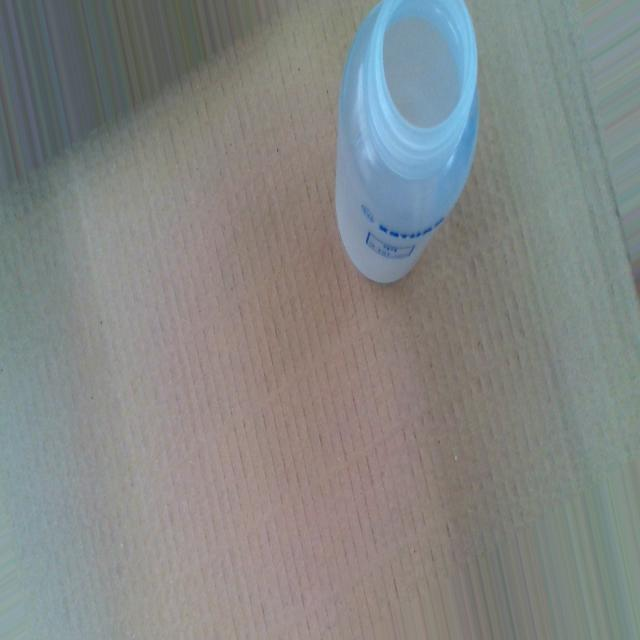bottle: (332, 2, 483, 289)
